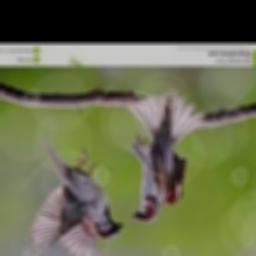Sparrow: (29, 138, 124, 256), (129, 92, 206, 221)
